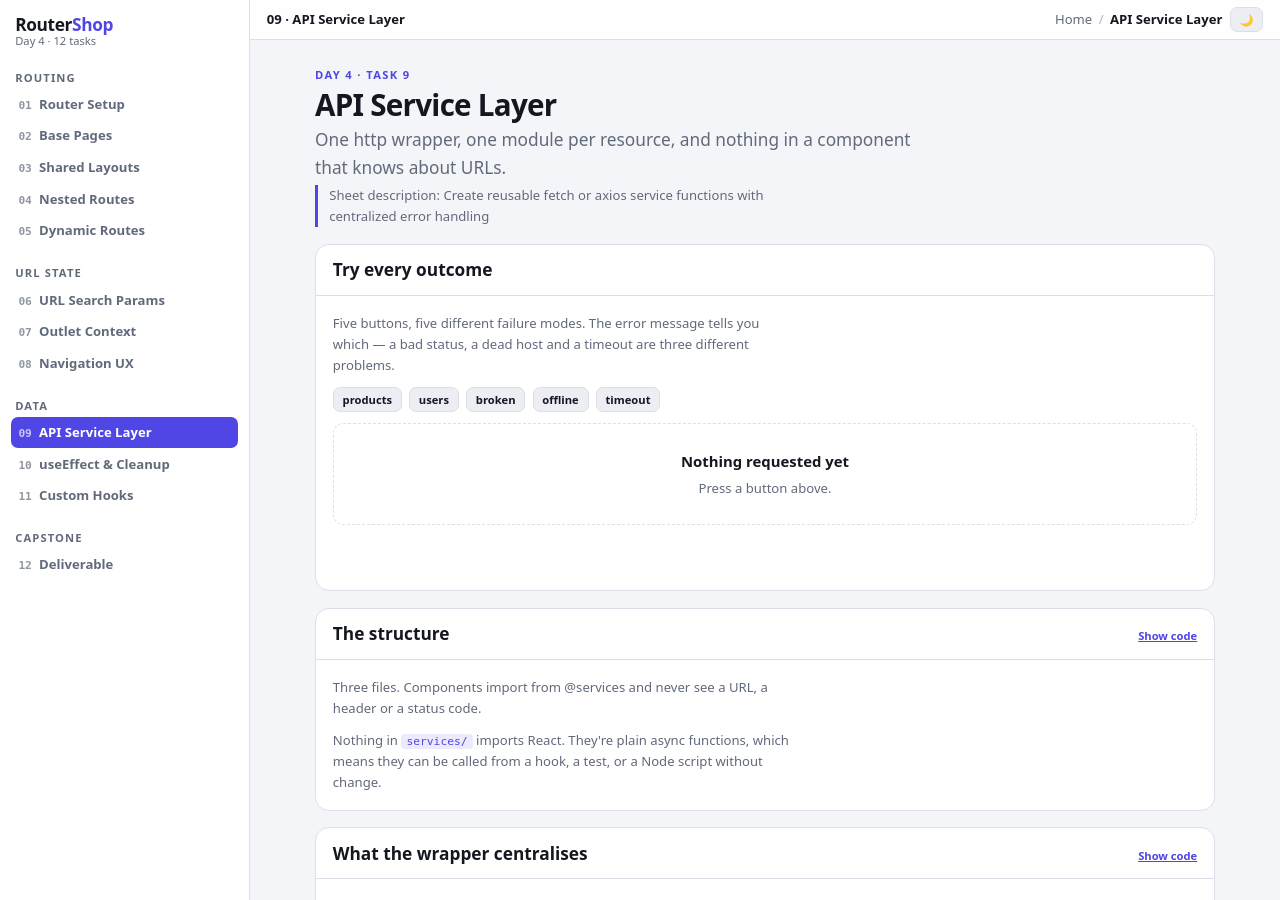
Test case: task 9 — API service layer › surfaces a bad status with the status code attached
Expected: the text "Day 4 · Task 9" is shown, [315,67,410,82]
Step 1. Click the button "broken" → (496, 400), box [466,387,525,412]
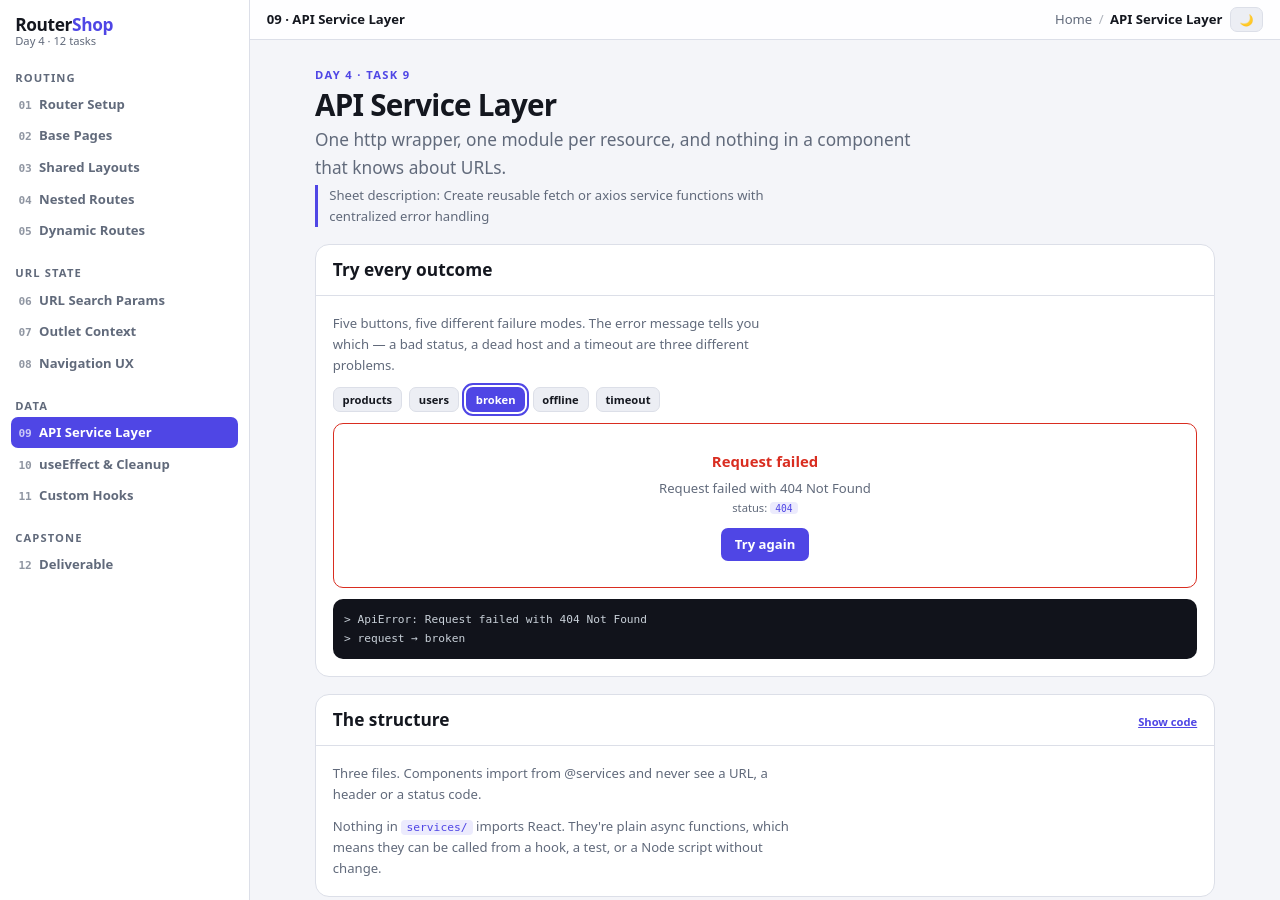
Expected: the text "Request failed" is shown, [712,451,818,471]
Expected: the text "404" is shown, [770,502,798,514]
